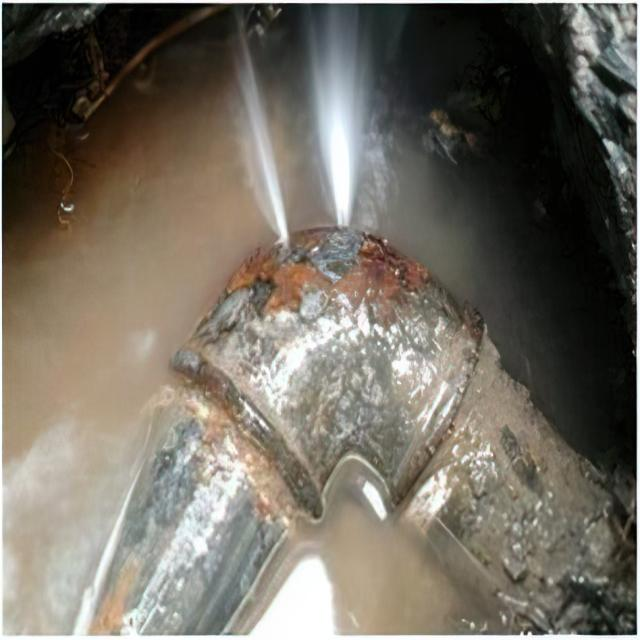leak: (308, 6, 405, 224), (235, 11, 289, 243)
